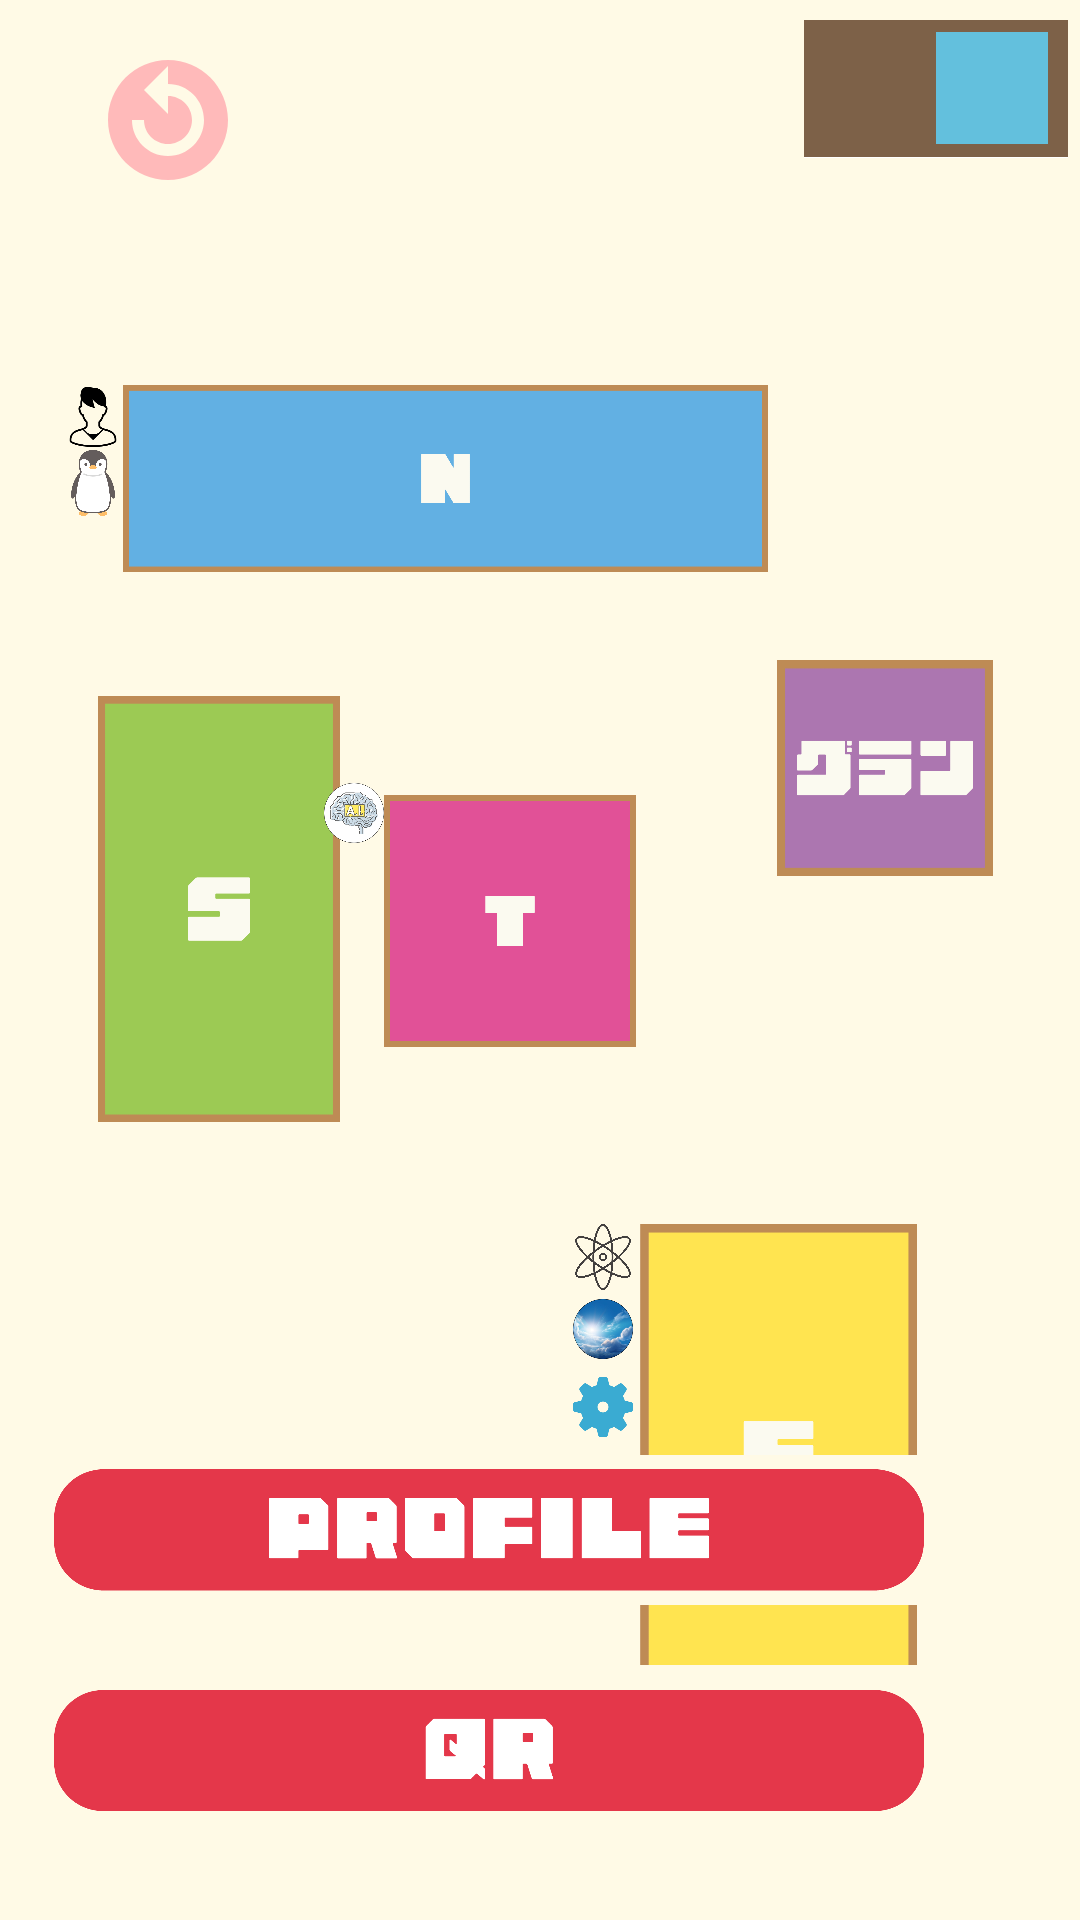

Icons on this 1080*1920 Android screen, each with its box as [x1, y1, x2, y2]:
gear: [573, 1377, 633, 1437]
man: [69, 387, 117, 447]
nuclear: [575, 1224, 631, 1290]
penguin: [71, 450, 115, 516]
reroad: [108, 60, 228, 180]
sky: [573, 1299, 633, 1359]
